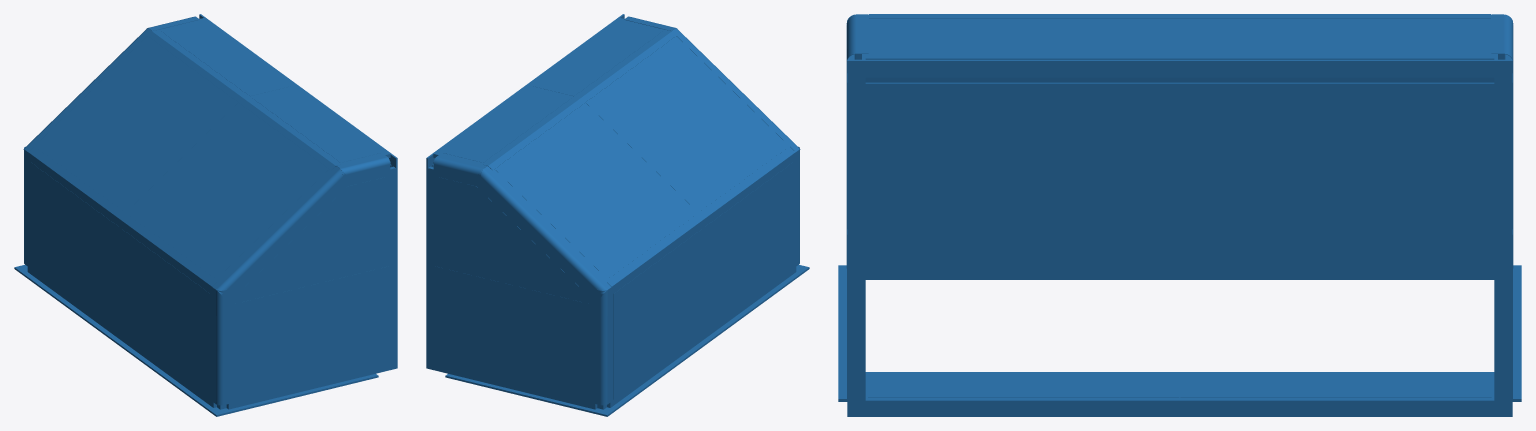
File: Phase10.fbx
The picture shows the model from 3 angles, left to right: view 1: azimuth 30°, elevation 25°; view 2: azimuth 150°, elevation 25°; view 3: azimuth 270°, elevation 25°; orthographic projection. The views are drawn at different scales.
Visible parts, largest first — view 1: 48.50.22.40.002 Обшивка:100х50х3_таб.1:716427, 48.50.22.40.002 Обшивка:100х50х3_таб.1:716787, 48.50.22.70.003 Обшивка:100х50х3_таб.1:719855, 48.50.22.50.002 Обшивка:100х50х3_таб.1:715751, Профили_гнутые_замкнутые_сварные_прямоугольные_ГОСТ_30245_20 (×13), 48.50.22.50.002 Обшивка:100х50х3_таб.1:715558, 48.50.22.70.004 Обшивка:100х50х3_таб.1:719857, 48.50.22.30.002 Обшивка:100х50х3_таб.1:720051, 48.50.22.30.002 Обшивка:100х50х3_таб.1:720278, 48.50.22.00.006 Уголок:48.50.22.00.006 Уголок:717551, 48.50.22.00.011 Уголок:48.50.22.00.011 Уголок:720307, 48.50.22.00.009 Уголок:48.50.22.00.009 Уголок:721560 (+8 smaller); view 2: 48.50.22.40.002 Обшивка:100х50х3_таб.1:716787, 48.50.22.40.002 Обшивка:100х50х3_таб.1:716427, 48.50.22.70.003 Обшивка:100х50х3_таб.1:714685, 48.50.22.50.002 Обшивка:100х50х3_таб.1:715751, 48.50.22.50.002 Обшивка:100х50х3_таб.1:715558, Профили_гнутые_замкнутые_сварные_прямоугольные_ГОСТ_30245_20 (×13), 48.50.22.70.004 Обшивка:100х50х3_таб.1:715922, 48.50.22.30.002 Обшивка:100х50х3_таб.1:720278, 48.50.22.30.002 Обшивка:100х50х3_таб.1:720051, 48.50.22.00.006 Уголок:48.50.22.00.006 Уголок:717224, 48.50.22.00.011 Уголок:48.50.22.00.011 Уголок:720307, 48.50.22.00.009 Уголок:48.50.22.00.009 Уголок:721560 (+8 smaller); view 3: 48.50.22.50.001 Обшивка:100х50х3_таб.1:714280, 48.50.22.50.001 Обшивка:100х50х3_таб.1:714489, 48.50.22.20.001 Планка:100х50х3_таб.1:713488, 48.50.22.20.001 Планка:100х50х3_таб.1:713590, 48.50.22.30.002 Обшивка:100х50х3_таб.1:720051, 48.50.22.30.002 Обшивка:100х50х3_таб.1:720278, 48.50.22.60.001 Обшивка:100х50х3_таб.1:713598, 48.50.22.60.001 Обшивка:100х50х3_таб.1:713825, ADSK_Балка_Швеллер_Гнутый_ГОСТ 8278-83:100х50х3_таб.1:716472, 48.50.22.20.001 Планка:100х50х3_таб.1:713736, 48.50.22.20.001 Планка:100х50х3_таб.1:713830, ADSK_Балка_Швеллер_Гнутый_ГОСТ 8278-83:100х50х3_таб.1:716246 (+14 smaller).
Part boxes in pixels (x1,y1,x2,y2): 48.50.22.40.002 Обшивка:100х50х3_таб.1:716427: [37, 39, 237, 212]; 48.50.22.40.002 Обшивка:100х50х3_таб.1:716787: [128, 105, 327, 279]; 48.50.22.70.003 Обшивка:100х50х3_таб.1:719855: [234, 266, 390, 402]; 48.50.22.50.002 Обшивка:100х50х3_таб.1:715751: [121, 229, 210, 399]; Профили_гнутые_замкнутые_сварные_прямоугольные_ГОСТ_30245_20 (×13): [27, 18, 395, 409]; 48.50.22.50.002 Обшивка:100х50х3_таб.1:715558: [31, 162, 119, 333]; 48.50.22.70.004 Обшивка:100х50х3_таб.1:719857: [234, 176, 390, 300]; 48.50.22.30.002 Обшивка:100х50х3_таб.1:720051: [161, 21, 290, 96]; 48.50.22.30.002 Обшивка:100х50х3_таб.1:720278: [252, 88, 381, 162]; 48.50.22.00.006 Уголок:48.50.22.00.006 Уголок:717551: [212, 166, 348, 299]; 48.50.22.00.011 Уголок:48.50.22.00.011 Уголок:720307: [28, 148, 216, 292]; 48.50.22.00.009 Уголок:48.50.22.00.009 Уголок:721560: [147, 30, 340, 170]; 48.50.22.40.002 Обшивка:100х50х3_таб.1:716787: [586, 39, 786, 212]; 48.50.22.40.002 Обшивка:100х50х3_таб.1:716427: [496, 105, 695, 279]; 48.50.22.70.003 Обшивка:100х50х3_таб.1:714685: [433, 266, 589, 402]; 48.50.22.50.002 Обшивка:100х50х3_таб.1:715751: [704, 162, 793, 332]; 48.50.22.50.002 Обшивка:100х50х3_таб.1:715558: [613, 229, 702, 399]; Профили_гнутые_замкнутые_сварные_прямоугольные_ГОСТ_30245_20 (×13): [428, 18, 796, 409]; 48.50.22.70.004 Обшивка:100х50х3_таб.1:715922: [433, 176, 589, 300]; 48.50.22.30.002 Обшивка:100х50х3_таб.1:720278: [533, 21, 662, 96]; 48.50.22.30.002 Обшивка:100х50х3_таб.1:720051: [442, 88, 571, 162]; 48.50.22.00.006 Уголок:48.50.22.00.006 Уголок:717224: [475, 166, 611, 299]; 48.50.22.00.011 Уголок:48.50.22.00.011 Уголок:720307: [607, 148, 795, 292]; 48.50.22.00.009 Уголок:48.50.22.00.009 Уголок:721560: [483, 30, 676, 170]; 48.50.22.50.001 Обшивка:100х50х3_таб.1:714280: [1178, 92, 1483, 269]; 48.50.22.50.001 Обшивка:100х50х3_таб.1:714489: [872, 92, 1177, 269]; 48.50.22.20.001 Планка:100х50х3_таб.1:713488: [847, 59, 1512, 77]; 48.50.22.20.001 Планка:100х50х3_таб.1:713590: [847, 399, 1512, 416]; 48.50.22.30.002 Обшивка:100х50х3_таб.1:720051: [1183, 20, 1483, 53]; 48.50.22.30.002 Обшивка:100х50х3_таб.1:720278: [876, 20, 1176, 53]; 48.50.22.60.001 Обшивка:100х50х3_таб.1:713598: [1180, 373, 1491, 397]; 48.50.22.60.001 Обшивка:100х50х3_таб.1:713825: [868, 373, 1179, 397]; ADSK_Балка_Швеллер_Гнутый_ГОСТ 8278-83:100х50х3_таб.1:716472: [865, 82, 1494, 96]; 48.50.22.20.001 Планка:100х50х3_таб.1:713736: [847, 77, 865, 400]; 48.50.22.20.001 Планка:100х50х3_таб.1:713830: [1494, 77, 1512, 400]; ADSK_Балка_Швеллер_Гнутый_ГОСТ 8278-83:100х50х3_таб.1:716246: [865, 264, 1494, 277].
Size of the model in its own units: 1974 by 3760 by 2187.
